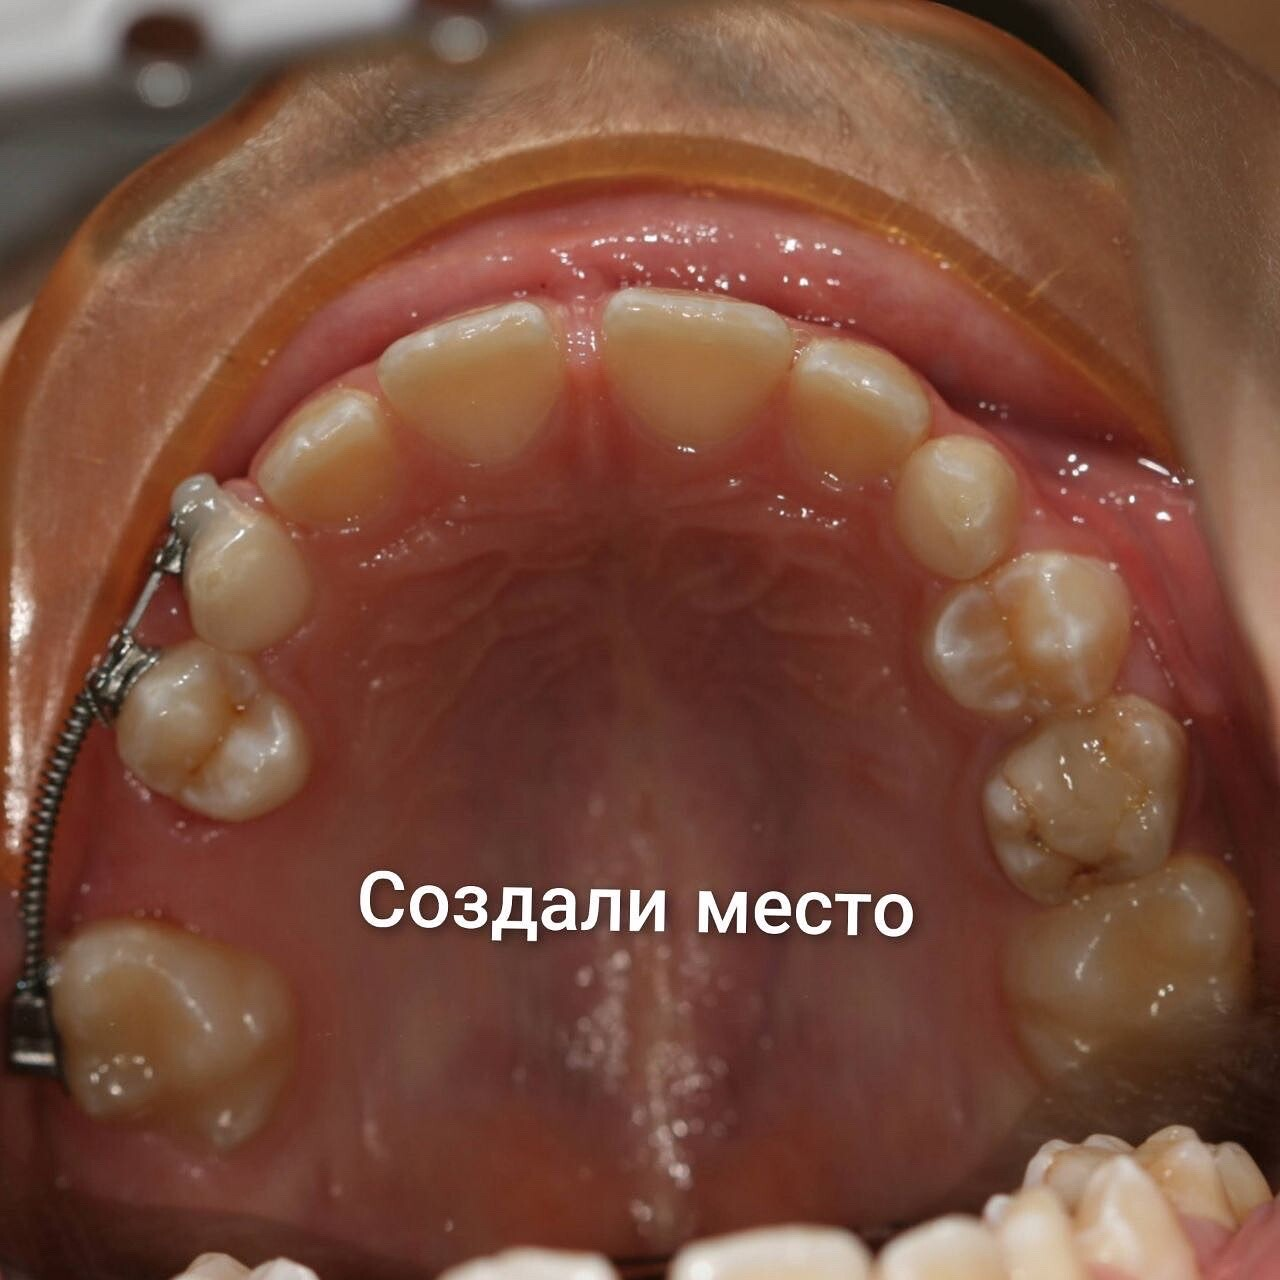UL1BC_healthy: (930, 542, 1126, 742)
UL1M_healthy: (1006, 855, 1278, 1104)
UL2BC_decay: (968, 689, 1186, 906)
ULCI_healthy: (602, 265, 787, 476)
ULC_healthy: (896, 421, 1015, 587)
ULLI_healthy: (792, 318, 922, 508)
UR1BC_decay: (102, 634, 297, 813)
UR1M_decay: (30, 922, 297, 1172)
URCI_healthy: (399, 286, 586, 486)
URC_healthy: (191, 485, 302, 638)
URLI_healthy: (281, 369, 384, 535)
